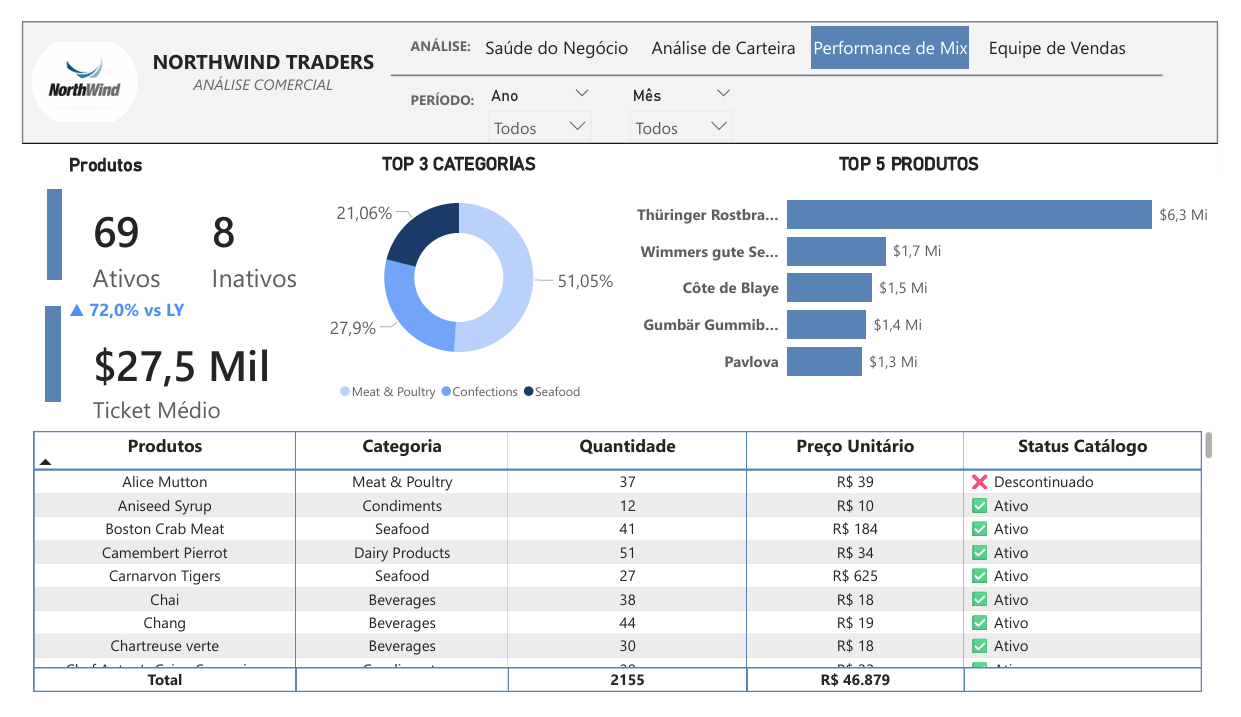

The dashboard page shown, as its layout file describes it:
{"tool":"powerbi","page":{"name":"Performance de Mix","canvas":[1280,720],"ordinal":2},"visuals":[{"type":"shape","box":[1.7,0,1275,130],"z":0},{"type":"shape","box":[0,0,1280,130],"z":1000},{"type":"textbox","box":[123.3,23.3,271.7,83.3],"z":2000},{"type":"shape","box":[395,0,823.3,115],"z":3000},{"type":"textbox","box":[411.3,11.3,84.7,38.7],"z":4000},{"type":"image","box":[11.7,16.7,113.3,95],"z":5000},{"type":"pageNavigator","box":[488.3,5,705,45],"z":6000},{"type":"cardVisual","title":"Produtos","fields":{"Data":["_Medidas.Total Produtos Ativos","_Medidas.Total Produtos Descontinuados"]},"box":[46.7,141.7,281.7,175],"z":7000},{"type":"cardVisual","fields":{"Data":["_Medidas.Ticket Médio"]},"box":[46.6,293.9,411.7,148.9],"z":8000},{"type":"slicer","fields":{"Values":["Dim_Calendario.Ano"]},"box":[488.9,64.4,130,62.2],"z":9000},{"type":"textbox","box":[411.1,67.8,84.4,38.9],"z":10000},{"type":"slicer","fields":{"Values":["Dim_Calendario.Mês Nome"]},"box":[640,64.4,130,62.2],"z":11000},{"type":"clusteredBarChart","title":"TOP 5 PRODUTOS","fields":{"Y":["_Medidas.Receita Total"],"Category":["Dim_Produtos.productName"]},"box":[618.3,140,658.3,273.3],"z":12000},{"type":"tableEx","fields":{"Values":["Dim_Produtos.productName","Dim_Categorias.categoryName","CountNonNull(Fato_Vendas_Detalhes.quantity)","Sum(Dim_Produtos.unitPrice)","Dim_Produtos.Status Catalogo"]},"box":[8.3,431.7,1268.3,288.3],"z":13000},{"type":"clusteredColumnChart","fields":{"Y":["CountNonNull(Dim_Produtos.productID)"]},"box":[3.3,141.7,68.3,140],"z":14000},{"type":"clusteredColumnChart","fields":{"Y":["_Medidas.Ticket Médio"]},"box":[0,261.7,71.7,151.7],"z":15000},{"type":"donutChart","title":"TOP 3 CATEGORIAS","fields":{"Category":["Dim_Categorias.categoryName"],"Y":["_Medidas.Receita Total"]},"box":[295,140,345,273.3],"z":16000}]}

Visuals, with their boxes in screenshot pixels (x1, y1, x2, y2), scaled from the page's 1280x720 canvas onto the 1241x717 screenshot:
shape: x1=2, y1=0, x2=1238, y2=129
shape: x1=0, y1=0, x2=1240, y2=129
textbox: x1=120, y1=23, x2=383, y2=106
shape: x1=383, y1=0, x2=1181, y2=115
textbox: x1=399, y1=11, x2=481, y2=50
image: x1=11, y1=17, x2=121, y2=111
pageNavigator: x1=473, y1=5, x2=1157, y2=50
"Produtos" cardVisual: x1=45, y1=141, x2=318, y2=315
cardVisual - _Medidas.Ticket Médio: x1=45, y1=293, x2=444, y2=441
slicer - Dim_Calendario.Ano: x1=474, y1=64, x2=600, y2=126
textbox: x1=399, y1=68, x2=480, y2=106
slicer - Dim_Calendario.Mês Nome: x1=620, y1=64, x2=747, y2=126
"TOP 5 PRODUTOS" clusteredBarChart: x1=599, y1=139, x2=1238, y2=412
tableEx - Dim_Produtos.productName x Dim_Categorias.categoryName: x1=8, y1=430, x2=1238, y2=716
clusteredColumnChart - CountNonNull(Dim_Produtos.productID): x1=3, y1=141, x2=69, y2=281
clusteredColumnChart - _Medidas.Ticket Médio: x1=0, y1=261, x2=70, y2=412
"TOP 3 CATEGORIAS" donutChart: x1=286, y1=139, x2=620, y2=412
